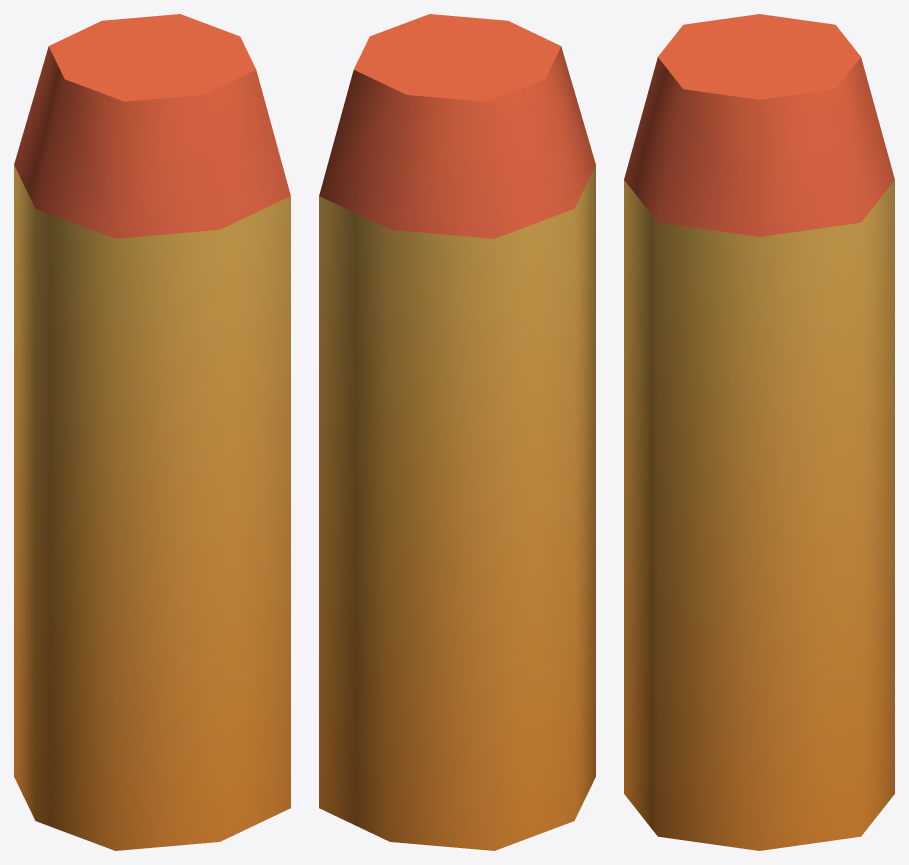
The model's file is bullet-foam-tip.glb.
3 renders of one model, left to right at view 1: azimuth 30°, elevation 25°; view 2: azimuth 150°, elevation 25°; view 3: azimuth 270°, elevation 25°, orthographic.
Parts seen in each view (by area): view 1: bullet-foam-tip; view 2: bullet-foam-tip; view 3: bullet-foam-tip.
Part boxes in pixels (x1,y1,x2,y2): bullet-foam-tip: (14, 14, 290, 850); bullet-foam-tip: (319, 14, 595, 850); bullet-foam-tip: (624, 14, 894, 850).
Size of the model in its own units: 0.02 by 0.06 by 0.02.
Materials: 1 (1 with a texture image).
